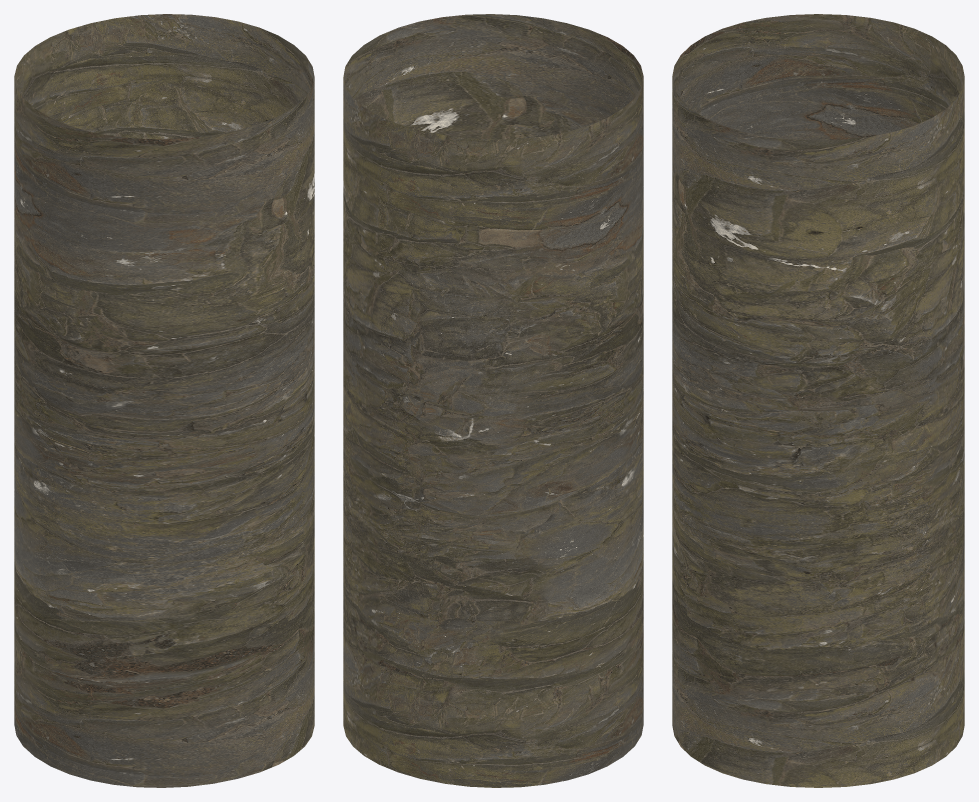
Rendered from suidao(3)_16.glb.
The picture shows the model from 3 angles, left to right: view 1: azimuth 30°, elevation 25°; view 2: azimuth 150°, elevation 25°; view 3: azimuth 270°, elevation 25°; orthographic projection.
Visible parts, largest first — view 1: XSBYSZK_03; view 2: XSBYSZK_03; view 3: XSBYSZK_03.
Part boxes in pixels (x1,y1,x2,y2): XSBYSZK_03: [14, 14, 314, 787]; XSBYSZK_03: [343, 14, 643, 787]; XSBYSZK_03: [672, 14, 964, 787].
Size of the model in its own units: 8.79 by 21 by 8.6.
1 material, 1 textured.
